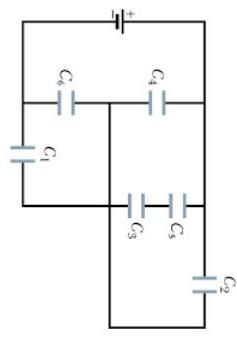Capacitor: (151, 181, 194, 222)
